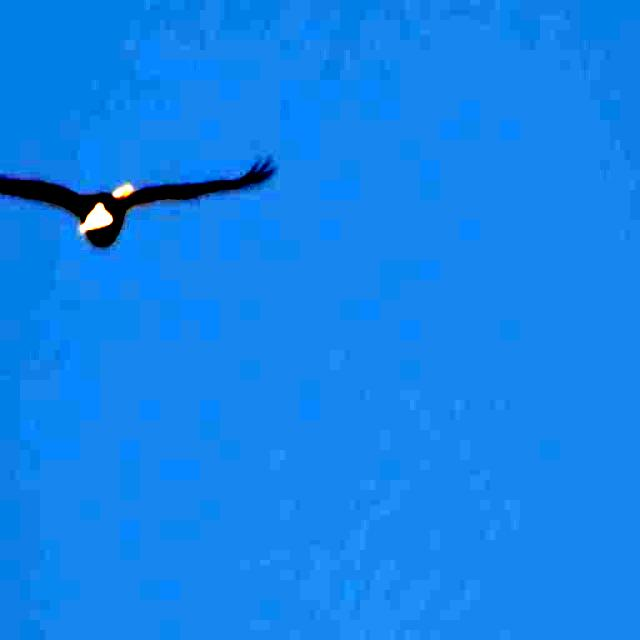airplane: (0, 146, 284, 259)
